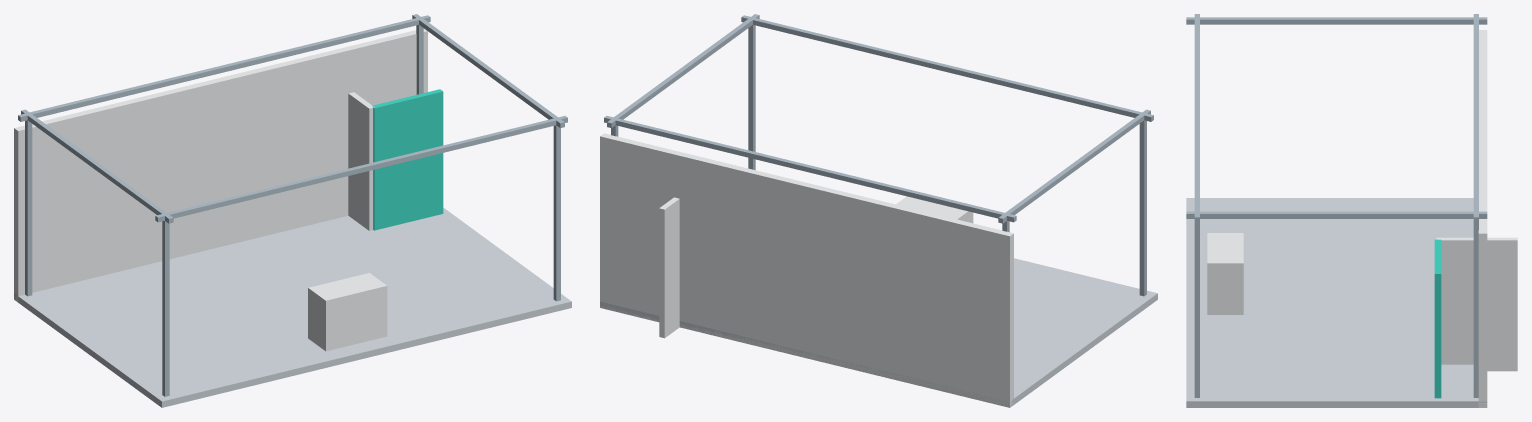
The picture shows the model from 3 angles, left to right: view 1: azimuth 30°, elevation 25°; view 2: azimuth 150°, elevation 25°; view 3: azimuth 270°, elevation 25°; orthographic projection.
Parts seen in each view (by area): view 1: Exhibition Booth Concept; view 2: Exhibition Booth Concept; view 3: Exhibition Booth Concept.
Boxes of the visible parts, x1=… form: Exhibition Booth Concept: x1=14, y1=14, x2=571, y2=407; Exhibition Booth Concept: x1=600, y1=14, x2=1157, y2=407; Exhibition Booth Concept: x1=1186, y1=14, x2=1517, y2=407.
Size of the model in its own units: 8 by 3.49 by 5.51.
